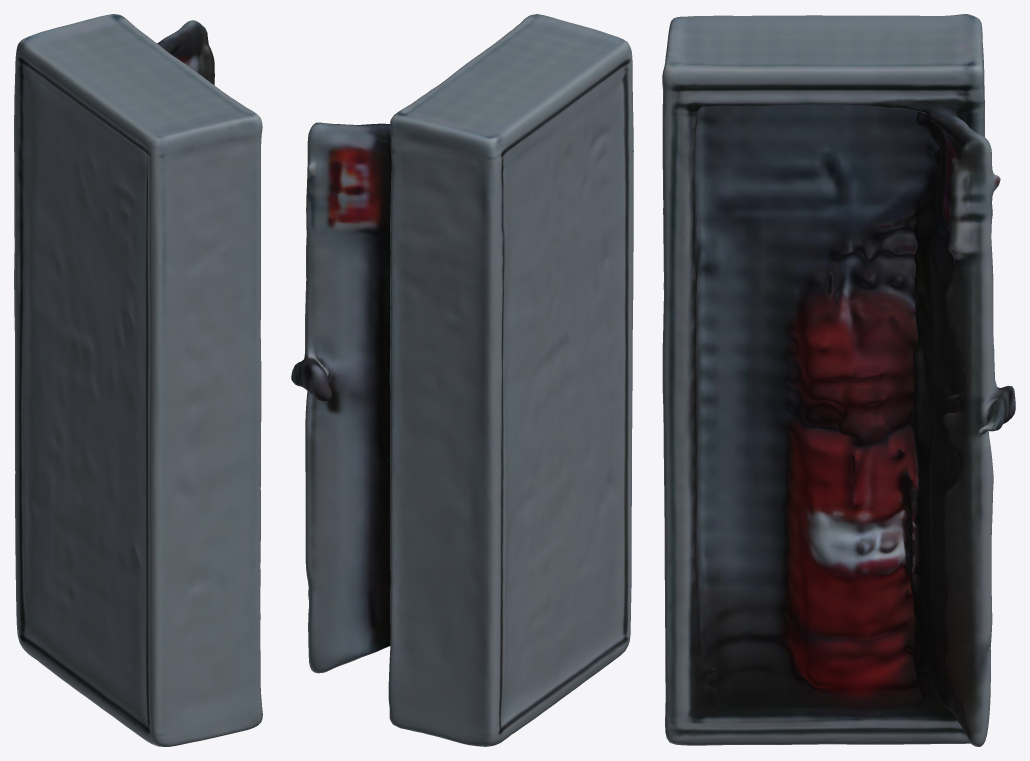
File: 2943f083d802_fire_extinguisher_i.fbx
The picture shows the model from 3 angles, left to right: view 1: azimuth 30°, elevation 25°; view 2: azimuth 150°, elevation 25°; view 3: azimuth 270°, elevation 25°; orthographic projection. The views are drawn at different scales.
Parts seen in each view (by area): view 1: high_poly; view 2: high_poly; view 3: high_poly.
Part boxes in pixels (left/top/right/bottom): high_poly: left=14, top=14, right=262, bottom=746; high_poly: left=291, top=14, right=633, bottom=746; high_poly: left=662, top=14, right=1015, bottom=746.
Bounding box in the file's own units: 34.57 × 100 × 47.16.
